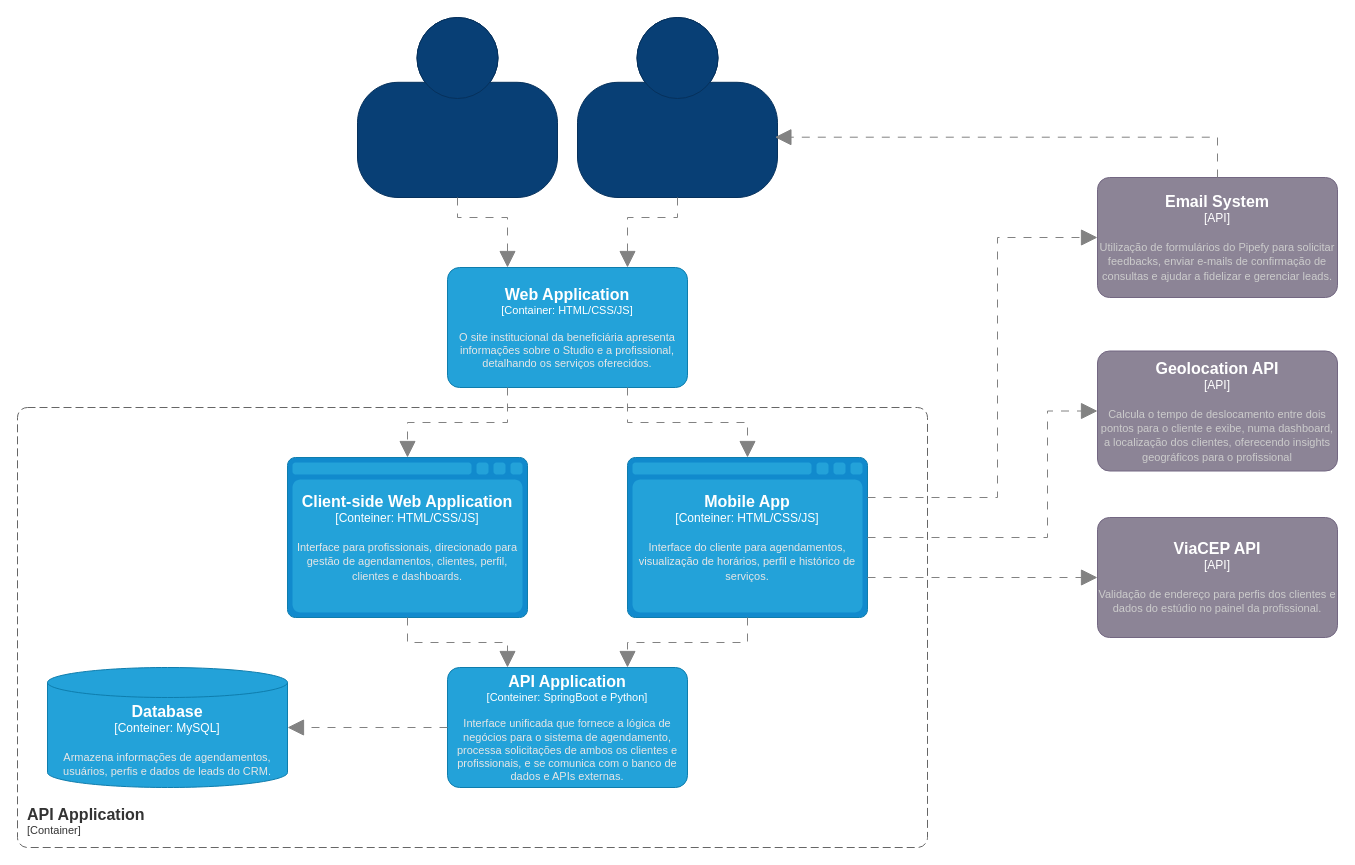
The diagram is 1355 pixels wide and 865 high, and some of its shapes have lost their labels. The shapes that lost their labels are listed below. From the top down, each one's centre as x and y in pixels, then its label:
At (457,107): "Profissional [Client-side Desktop Application] Integrage com a interface desktop".
At (677,107): "Cliente [Mobile App] Interage com a interface mobile".
